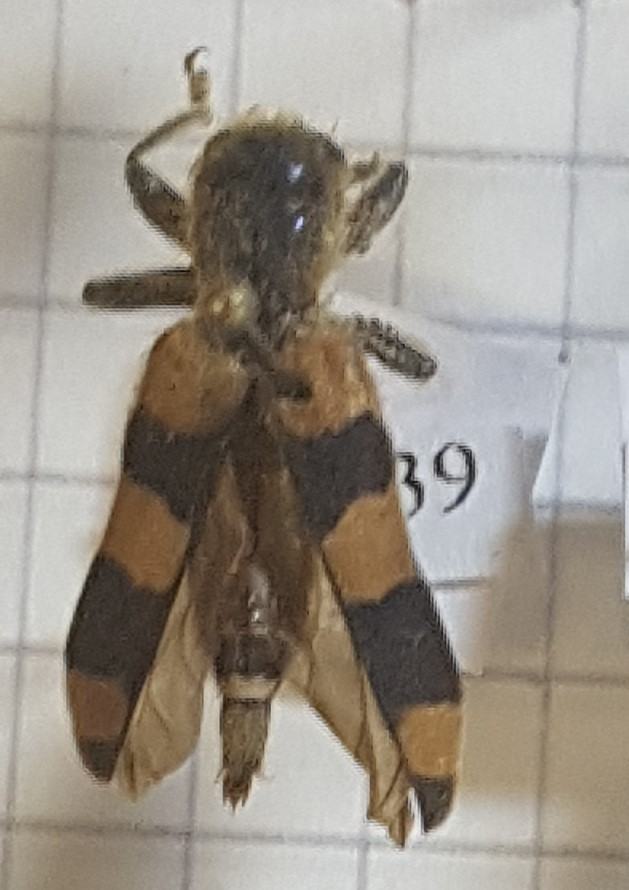trichodes_crabroniformis: (64, 40, 480, 845)
